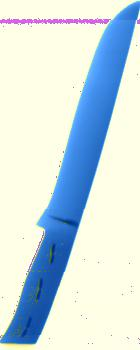Knife: (1, 1, 139, 344)
